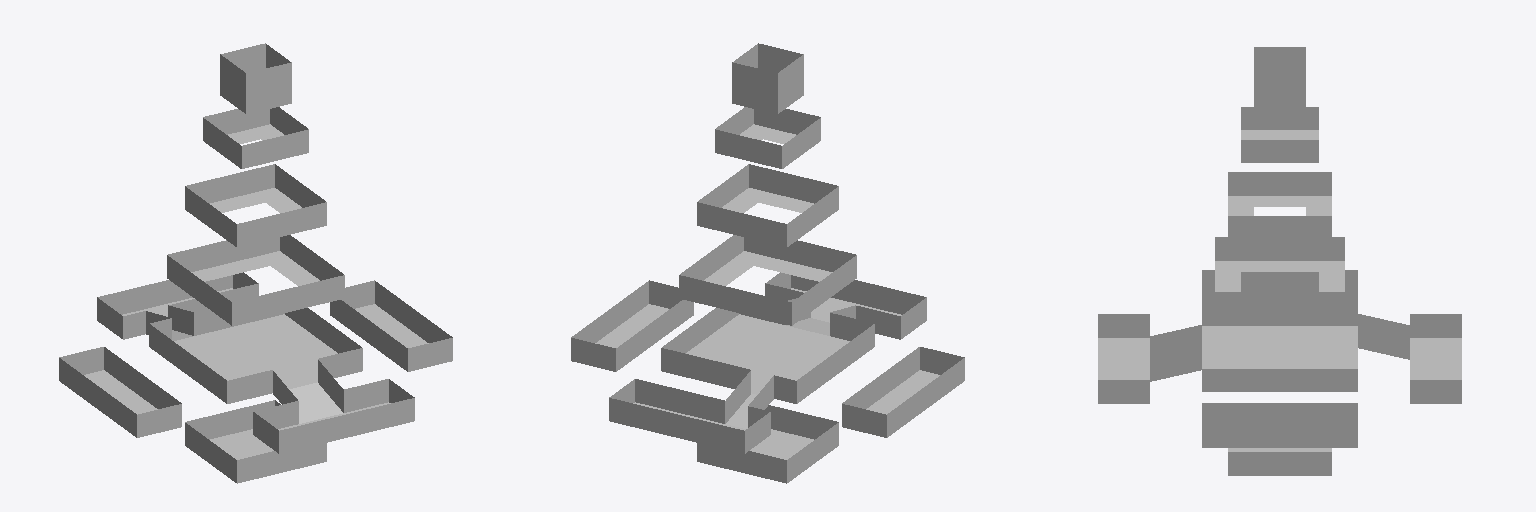
Rendered from tree-03-collision_mesh.obj.
3 views of the same model, side by side, from view 1: azimuth 30°, elevation 25°; view 2: azimuth 150°, elevation 25°; view 3: azimuth 270°, elevation 25° (orthographic).
Visible parts, largest first — view 1: Plane.007_Plane.008, Plane.001, Plane.003, Plane.009_Plane.010, Plane.010_Plane.011, Plane.005, Plane.002, Plane.006_Plane.007; view 2: Plane.007_Plane.008, Plane.001, Plane.003, Plane.009_Plane.010, Plane.010_Plane.011, Plane.005, Plane.002, Plane.006_Plane.007; view 3: Plane.007_Plane.008, Plane.001, Plane.010_Plane.011, Plane.003, Plane.002, Plane.006_Plane.007, Plane.005, Plane.009_Plane.010.
Part boxes in pixels (left/top/right/bottom): Plane.007_Plane.008: left=97, top=272, right=414, bottom=453; Plane.001: left=167, top=235, right=344, bottom=325; Plane.003: left=185, top=164, right=326, bottom=247; Plane.009_Plane.010: left=59, top=347, right=181, bottom=437; Plane.010_Plane.011: left=330, top=280, right=452, bottom=371; Plane.005: left=185, top=400, right=326, bottom=483; Plane.002: left=203, top=107, right=308, bottom=168; Plane.006_Plane.007: left=220, top=43, right=291, bottom=114; Plane.007_Plane.008: left=609, top=272, right=926, bottom=453; Plane.001: left=679, top=235, right=856, bottom=325; Plane.003: left=697, top=164, right=838, bottom=247; Plane.009_Plane.010: left=842, top=347, right=964, bottom=437; Plane.010_Plane.011: left=571, top=280, right=693, bottom=371; Plane.005: left=697, top=405, right=838, bottom=483; Plane.002: left=715, top=107, right=820, bottom=168; Plane.006_Plane.007: left=732, top=43, right=803, bottom=114; Plane.007_Plane.008: left=1098, top=303, right=1461, bottom=403; Plane.001: left=1215, top=237, right=1344, bottom=315; Plane.010_Plane.011: left=1202, top=403, right=1357, bottom=447; Plane.003: left=1228, top=172, right=1331, bottom=239; Plane.002: left=1241, top=107, right=1318, bottom=162; Plane.006_Plane.007: left=1254, top=47, right=1305, bottom=110; Plane.005: left=1228, top=448, right=1331, bottom=475; Plane.009_Plane.010: left=1202, top=270, right=1357, bottom=302.
Bounding box in the file's own units: 56 × 67 × 56.